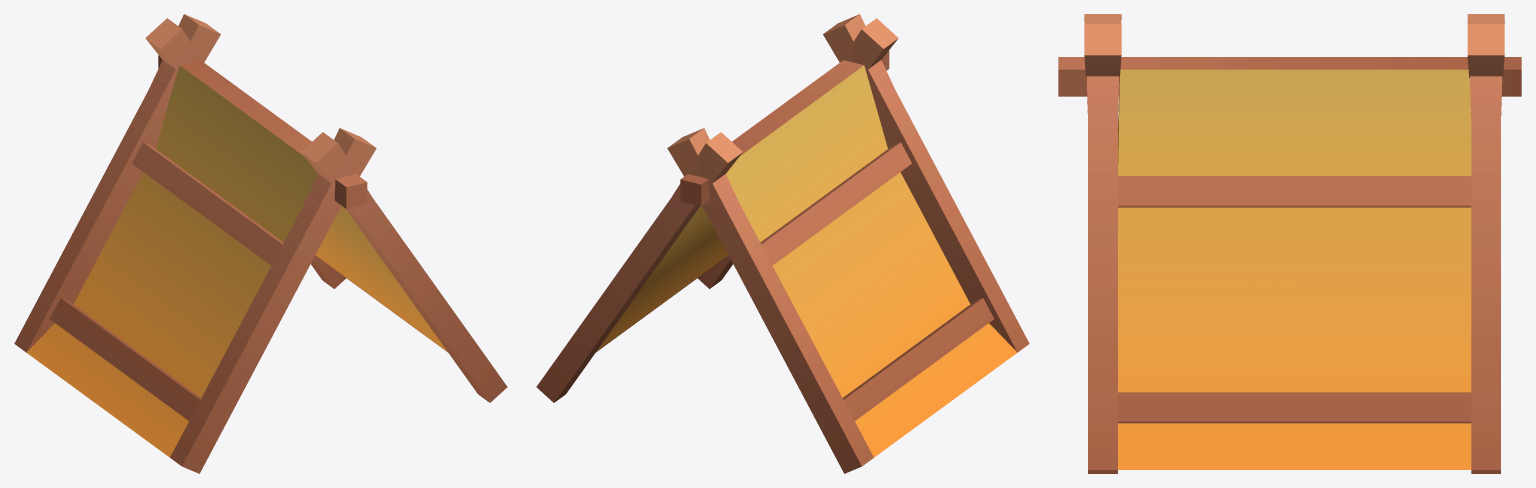
File: tent-canvas.gltf
3 renders of one model, left to right at view 1: azimuth 30°, elevation 25°; view 2: azimuth 150°, elevation 25°; view 3: azimuth 270°, elevation 25°, orthographic. The views are drawn at different scales.
Visible parts, largest first — view 1: tent-canvas; view 2: tent-canvas; view 3: tent-canvas.
Boxes of the visible parts, x1=… form: tent-canvas: x1=14, y1=14, x2=507, y2=473; tent-canvas: x1=536, y1=14, x2=1029, y2=473; tent-canvas: x1=1058, y1=14, x2=1521, y2=473.
Size of the model in its own units: 0.5608 by 0.4914 by 0.561.
Materials: 1 (1 with a texture image).
